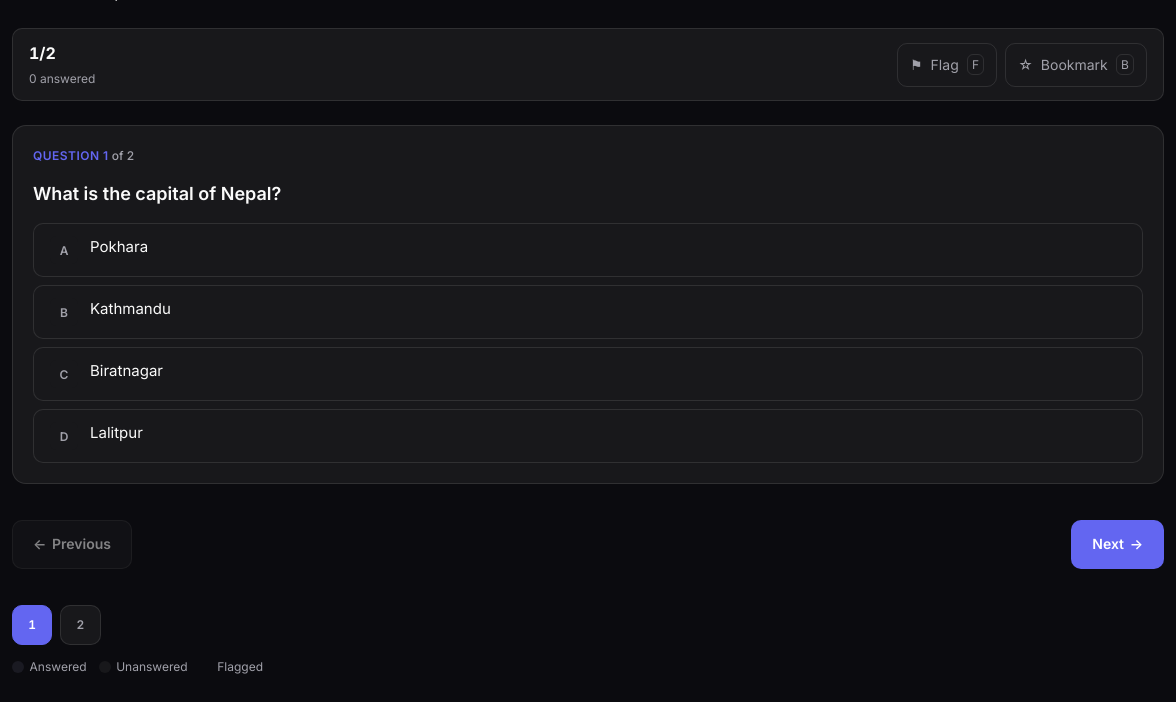
Test: TopicPractice › scores each question independently rather than carrying a selection over
Expected: the text "Question 1" is shown, x1=33 y1=146 x2=134 y2=165
Note: Answer Q1 wrong on purpose.
Click the text "Pokhara" at (119, 247), box x1=90 y1=236 x2=148 y2=258
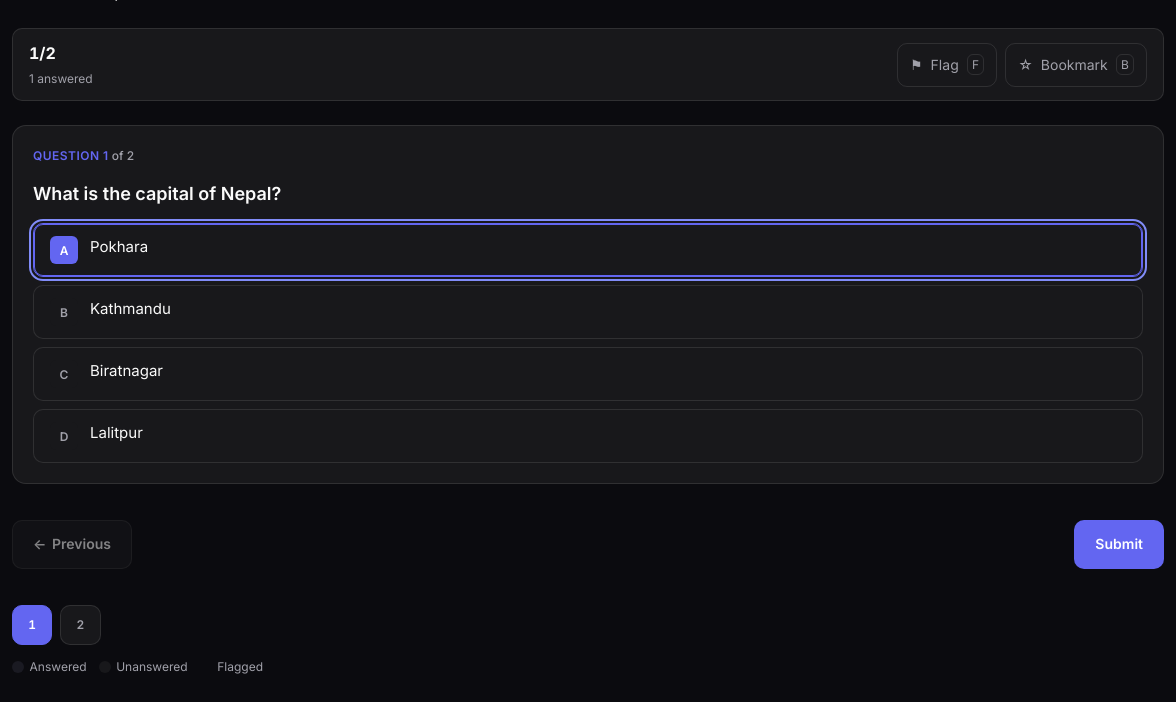
Click the button "Submit" at (1119, 545), box x1=1074 y1=520 x2=1164 y2=569
(page scrolled)
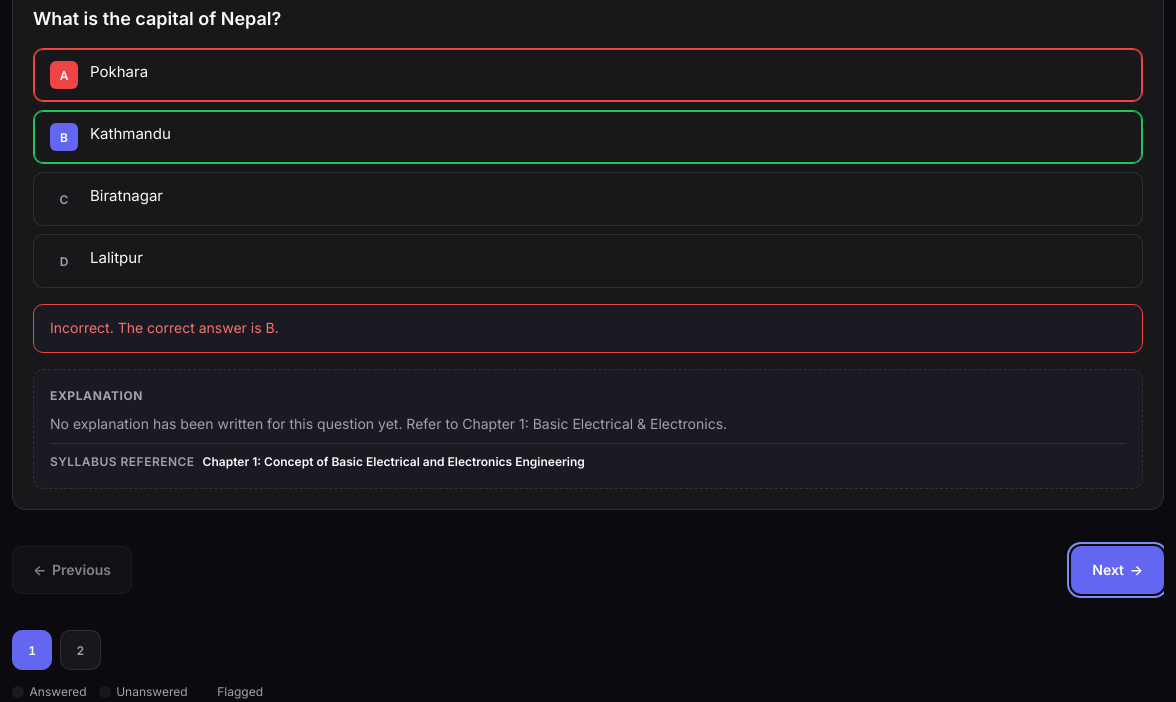
Result: the message shows "Incorrect" at x1=50 y1=320 x2=279 y2=336
Click the button "Next →" at (1118, 570), box x1=1071 y1=546 x2=1164 y2=594
(page scrolled)
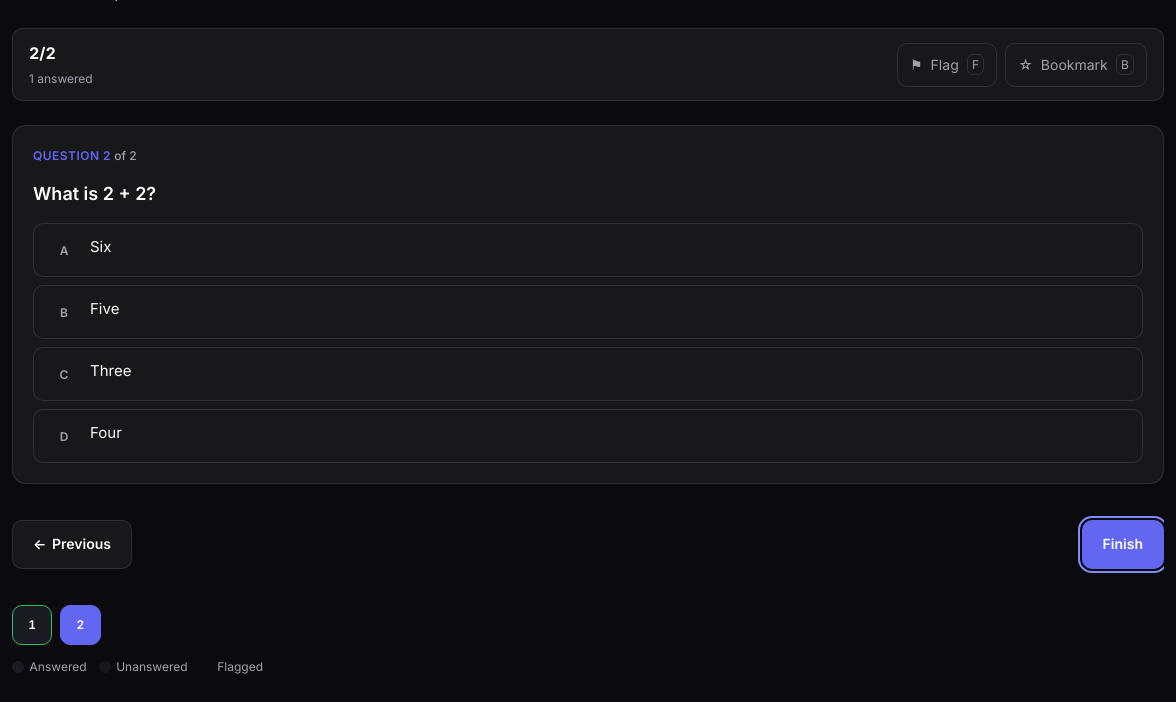
Result: the text "Question 2" is shown at x1=33 y1=146 x2=137 y2=165
Note: Answer Q2 right.
Click the text "Four" at (106, 433), box x1=90 y1=422 x2=122 y2=444
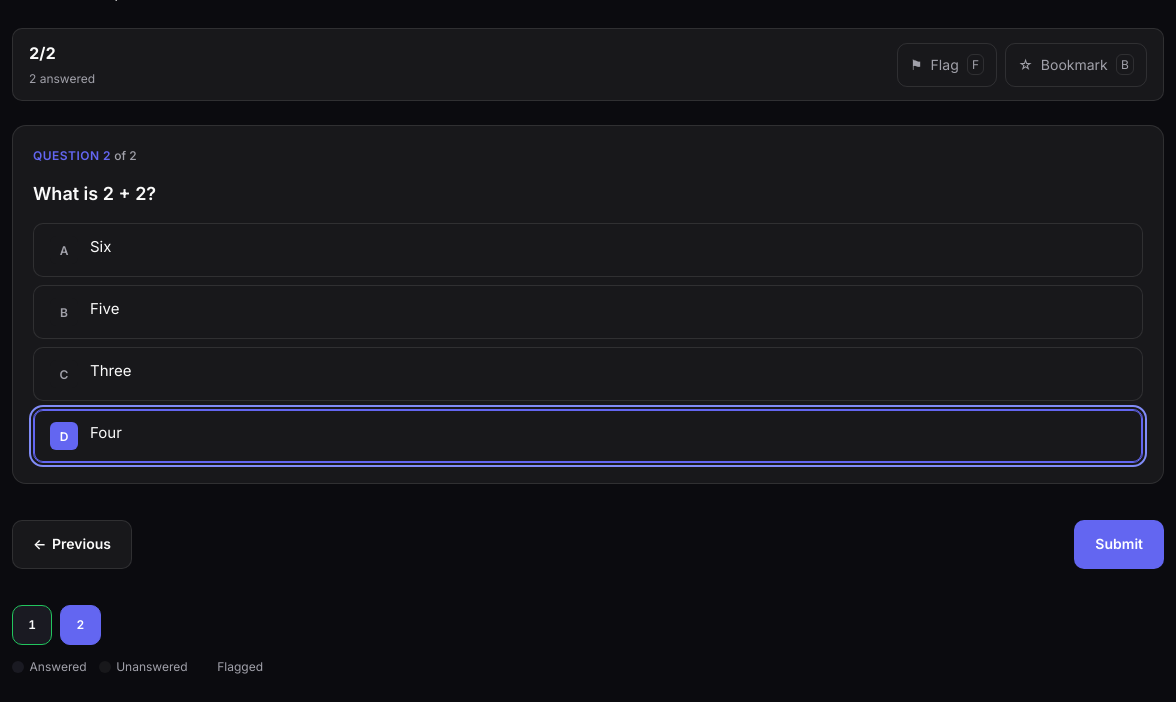
Click the button "Submit" at (1119, 545), box x1=1074 y1=520 x2=1164 y2=569
(page scrolled)
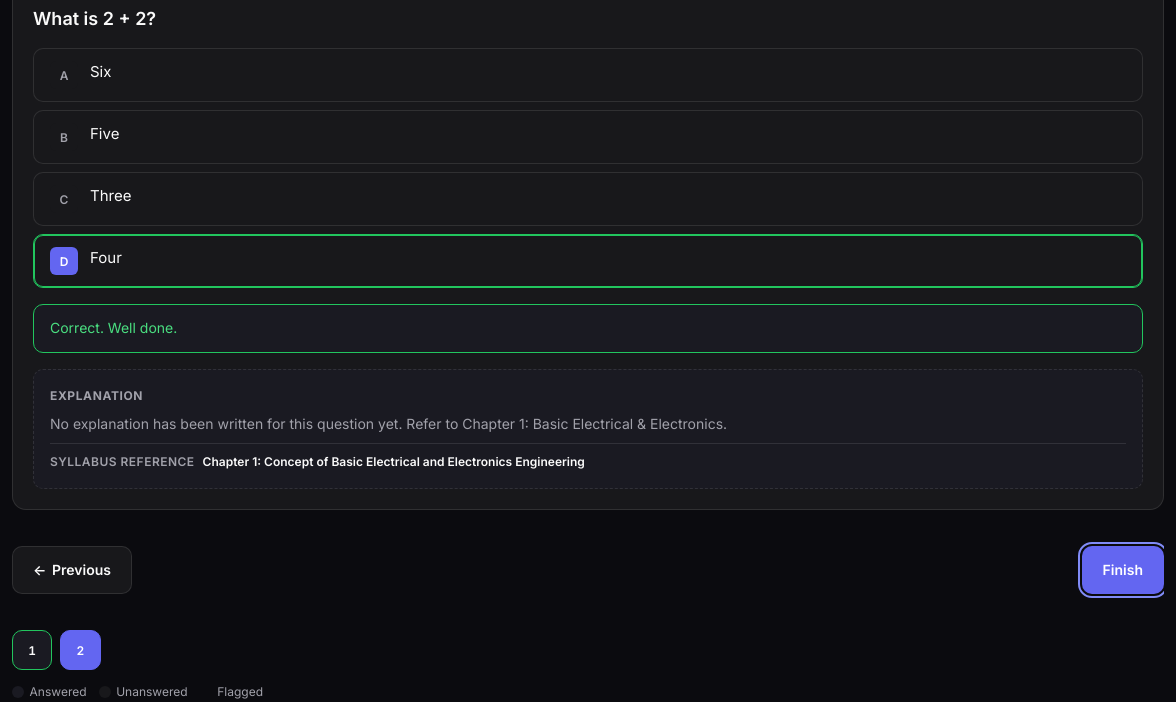
Result: the message shows "Correct" at x1=50 y1=320 x2=177 y2=336
Note: Score reads 1, and going back still shows Q1 as incorrect.
Click the button "← Previous" at (72, 570), box x1=12 y1=546 x2=132 y2=594
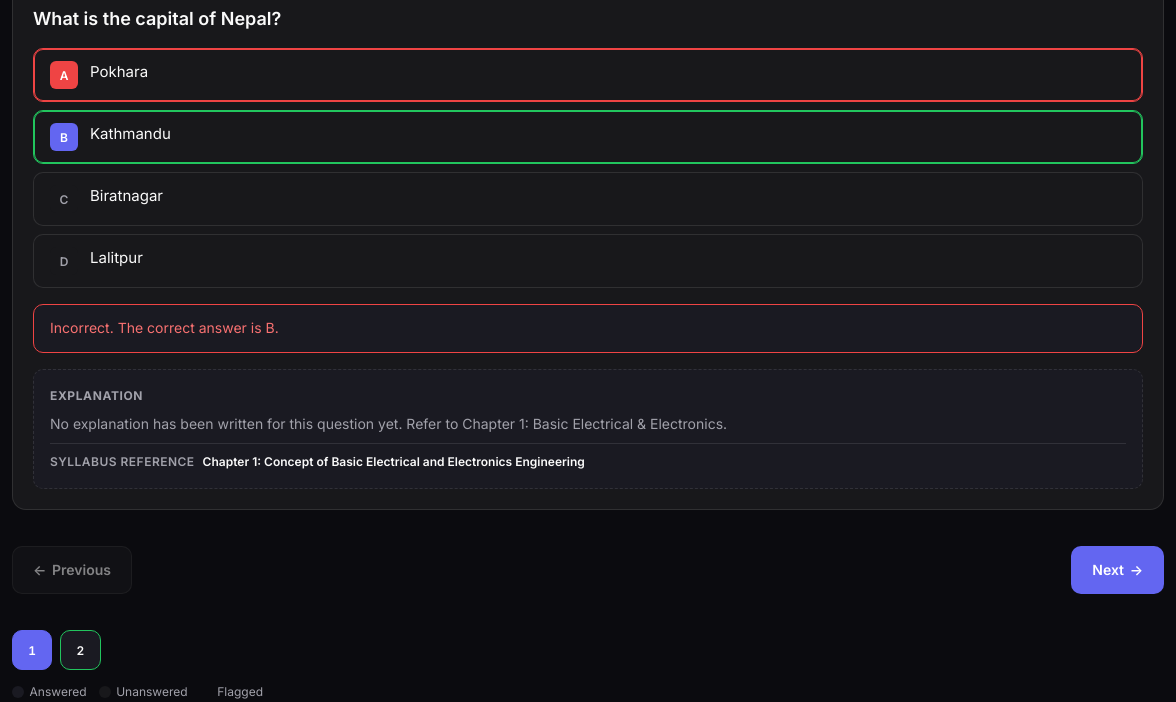
Result: the message shows "Incorrect" at x1=50 y1=320 x2=279 y2=336
